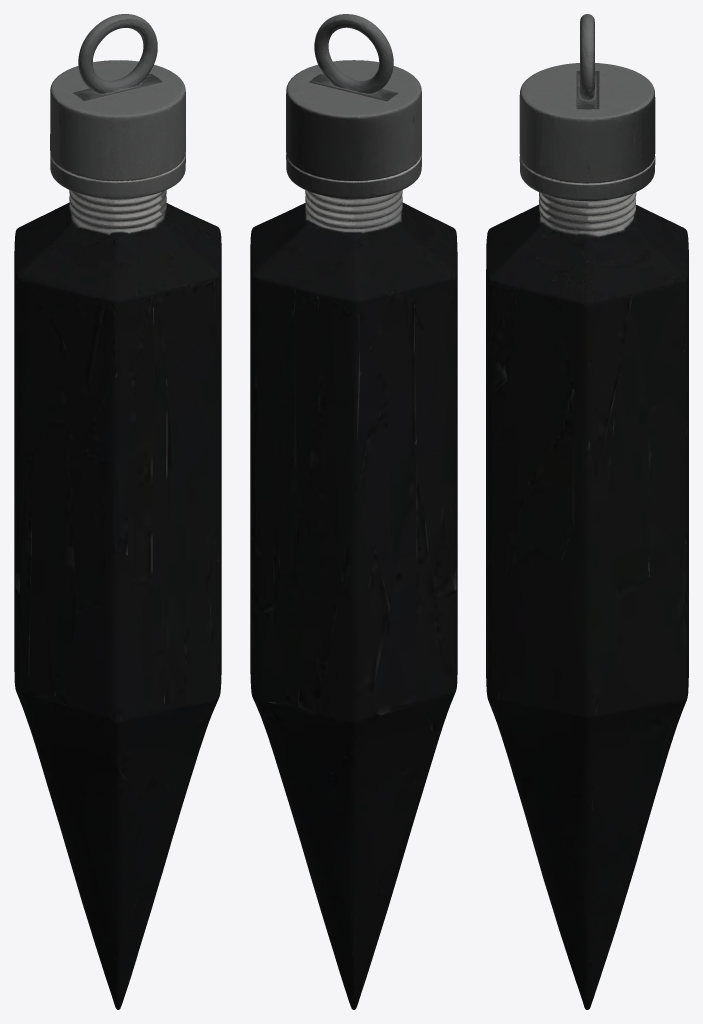
The model's file is faq.glb.
3 renders of one model, left to right at view 1: azimuth 30°, elevation 25°; view 2: azimuth 150°, elevation 25°; view 3: azimuth 270°, elevation 25°, orthographic.
Bounding box in the file's own units: 0.405 × 1.9 × 0.3523.
1 material, 1 textured.
